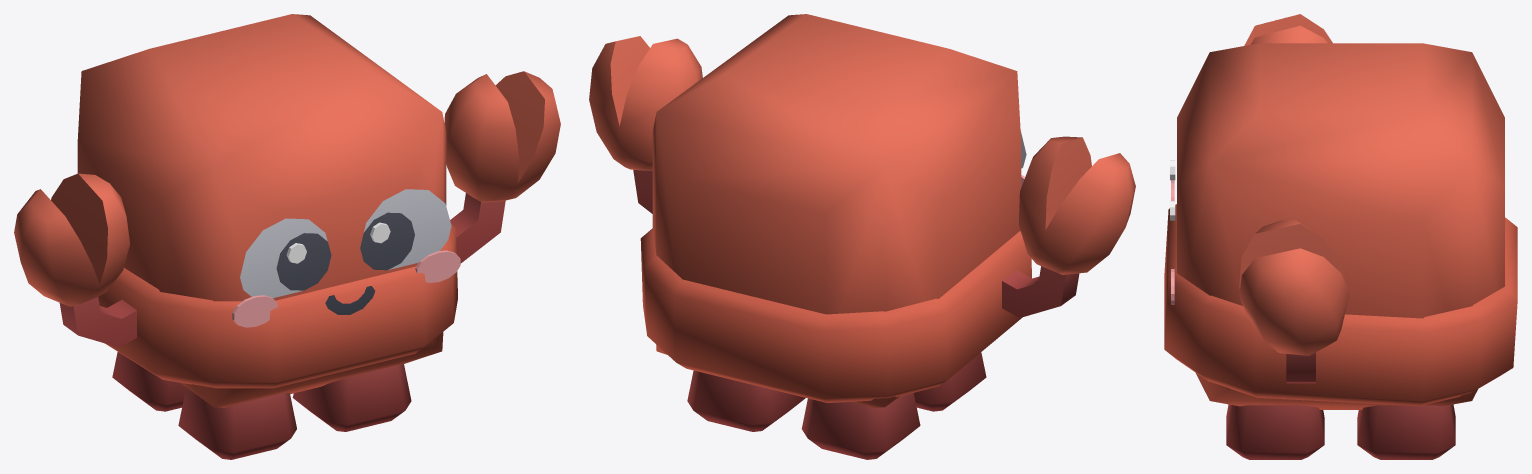
The model's file is crab.glb.
3 renders of one model, left to right at view 1: azimuth 30°, elevation 25°; view 2: azimuth 150°, elevation 25°; view 3: azimuth 270°, elevation 25°, orthographic.
Visible parts, largest first — view 1: Group, body, leg-front-right, leg-front-left, leg-back-right; view 2: Group, body, leg-back-right, leg-back-left, leg-front-right; view 3: Group, body, leg-front-left, leg-back-left.
Boxes of the visible parts, left/top/right/bottom form: Group: left=77, top=14, right=446, bottom=407; body: left=14, top=71, right=560, bottom=388; leg-front-right: left=178, top=387, right=296, bottom=459; leg-front-left: left=292, top=364, right=411, bottom=431; leg-back-right: left=112, top=352, right=186, bottom=411; Group: left=652, top=14, right=1021, bottom=407; body: left=589, top=36, right=1135, bottom=402; leg-back-right: left=801, top=393, right=920, bottom=459; leg-back-left: left=687, top=370, right=805, bottom=431; leg-front-right: left=914, top=352, right=986, bottom=411; Group: left=1177, top=43, right=1504, bottom=409; body: left=1164, top=14, right=1517, bottom=406; leg-front-left: left=1226, top=404, right=1324, bottom=459; leg-back-left: left=1357, top=404, right=1455, bottom=459.
Size of the model in its own units: 2.34 by 1.43 by 1.35.
1 material, 1 textured.
